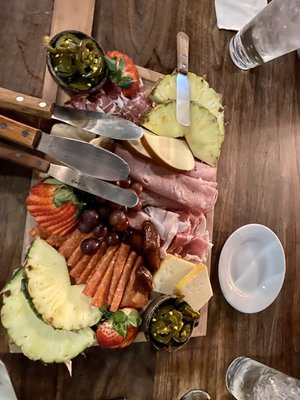pizza: (217, 223, 286, 314)
sandwich: (0, 115, 142, 209)
